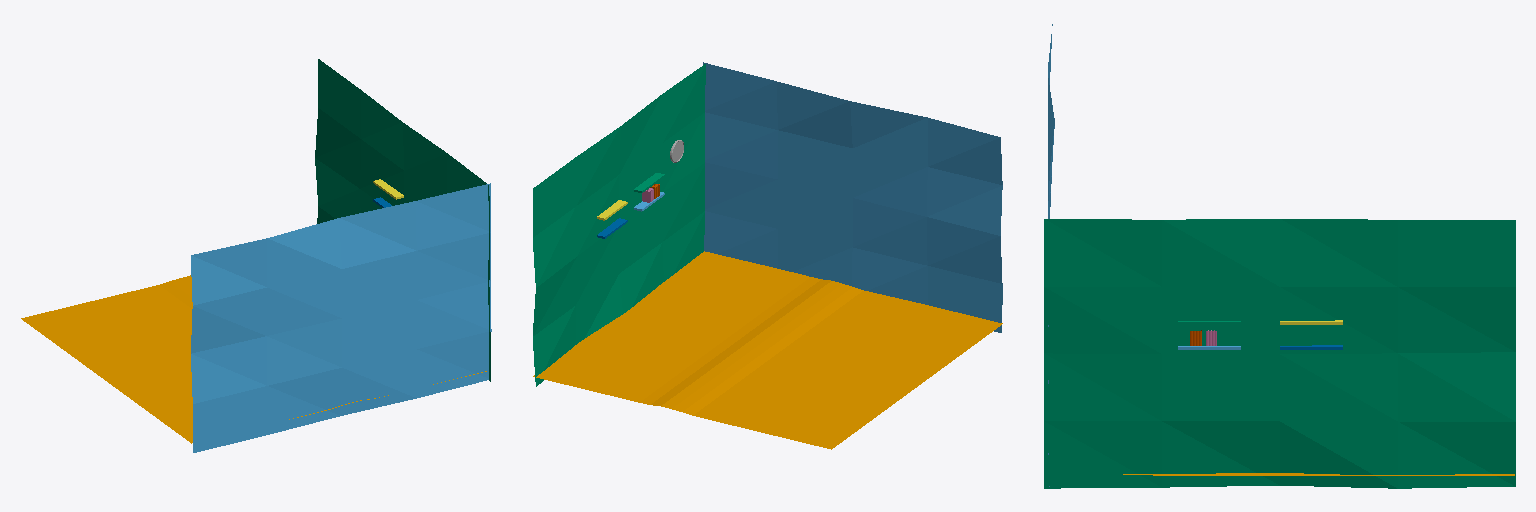
robot.urdf — room:
<?xml version="1.0"?>
<robot name="room">
  <material name="White">
    <color rgba="0.9 0.9 0.9 1"/>
  </material>
  <material name="Blue">
    <color rgba="0 0 1 1"/>
  </material>
  <material name="Red">
    <color rgba="1 0 0 1"/>
  </material>
  <material name="Green">
    <color rgba="0.1 0.8 0.1 1"/>
  </material>
  <material name="Gray">
    <color rgba="0.6 0.6 0.6 1"/>
  </material>
  <material name="Black">
    <color rgba="0.1 0.1 0.1 1"/>
  </material>
     
  <link name="room_base">

    <contact>
      <lateral_friction value="0.5"/>
      <rolling_friction value="0.0"/>
      <contact_cfm value="0.0"/>
      <contact_erp value="1.0"/>
    </contact>
    <inertial>
      <origin rpy="0 0 0" xyz="0 0 0"/>
      <mass value="0"/>
      <inertia ixx="0" ixy="0" ixz="0" iyy="0" iyz="0" izz="0"/>
    </inertial>


    <visual>
      <origin xyz="0 0 0" rpy="0 0 0"/>
      <geometry>
        <box size="0.001 0.001 0.001"/>
      </geometry>
      <material name="Red"/>
    </visual>
  </link>
  
    
    
  <joint name="j_box_shelf_1" type="fixed">
    <parent link="room_base"/>
    <child link="l_box_shelf_1"/>
    <origin rpy="0 0 0" xyz="0 0 0"/>
  </joint>
        
  <link name="l_box_shelf_1">
    <inertial>
      <origin xyz="0 0 0" rpy="0 0 0"/>
      <mass value="1.0" />
      <inertia  ixx="1.0" ixy="0.0"  ixz="0.0"  iyy="1.0"  iyz="0.0"  izz="1.0" />
    </inertial>
    <visual>
      <origin xyz="2.9 -0.9 1.35" rpy="0 0 0"/>
      <geometry>
        <box size="0.2 0.8 0.04"/>
      </geometry>
    </visual>
    <collision>
      <origin xyz="2.9 -0.9 1.35" rpy="0 0 0"/>
      <geometry>
        <box size="0.2 0.8 0.04"/>
      </geometry>
    </collision>
  </link>

  <joint name="j_box_shelf_2" type="fixed">
    <parent link="room_base"/>
    <child link="l_box_shelf_2"/>
    <origin rpy="0 0 0" xyz="0 0 0"/>
  </joint>
        
  <link name="l_box_shelf_2">
    <inertial>
      <origin xyz="0 0 0" rpy="0 0 0"/>
      <mass value="1.0" />
      <inertia  ixx="1.0" ixy="0.0"  ixz="0.0"  iyy="1.0"  iyz="0.0"  izz="1.0" />
    </inertial>
    <visual>
      <origin xyz="2.9 -0.9 1.7" rpy="0 0 0"/>
      <geometry>
        <box size="0.2 0.8 0.04"/>
      </geometry>
    </visual>
    <collision>
      <origin xyz="2.9 -0.9 1.7" rpy="0 0 0"/>
      <geometry>
        <box size="0.2 0.8 0.04"/>
      </geometry>
    </collision>
  </link>

  <joint name="j_box_shelf_3" type="fixed">
    <parent link="room_base"/>
    <child link="l_box_shelf_3"/>
    <origin rpy="0 0 0" xyz="0 0 0"/>
  </joint>
        
  <link name="l_box_shelf_3">
    <inertial>
      <origin xyz="0 0 0" rpy="0 0 0"/>
      <mass value="1.0" />
      <inertia  ixx="1.0" ixy="0.0"  ixz="0.0"  iyy="1.0"  iyz="0.0"  izz="1.0" />
    </inertial>
    <visual>
      <origin xyz="2.9 0.4 1.7" rpy="0 0 0"/>
      <geometry>
        <box size="0.2 0.8 0.04"/>
      </geometry>
    </visual>
    <collision>
      <origin xyz="2.9 0.4 1.7" rpy="0 0 0"/>
      <geometry>
        <box size="0.2 0.8 0.04"/>
      </geometry>
    </collision>
  </link>

  <joint name="j_box_shelf_4" type="fixed">
    <parent link="room_base"/>
    <child link="l_box_shelf_4"/>
    <origin rpy="0 0 0" xyz="0 0 0"/>
  </joint>
        
  <link name="l_box_shelf_4">
    <inertial>
      <origin xyz="0 0 0" rpy="0 0 0"/>
      <mass value="1.0" />
      <inertia  ixx="1.0" ixy="0.0"  ixz="0.0"  iyy="1.0"  iyz="0.0"  izz="1.0" />
    </inertial>
    <visual>
      <origin xyz="2.9 0.4 1.35" rpy="0 0 0"/>
      <geometry>
        <box size="0.2 0.8 0.04"/>
      </geometry>
    </visual>
    <collision>
      <origin xyz="2.9 0.4 1.35" rpy="0 0 0"/>
      <geometry>
        <box size="0.2 0.8 0.04"/>
      </geometry>
    </collision>
  </link>
  
  <joint name="j_books" type="fixed">
    <parent link="room_base"/>
    <child link="books_base"/>
    <origin rpy="0 0 0" xyz="0 0 0"/>
  </joint>
        
  <link name="books_base">
      <inertial>
      <origin rpy="0 0 0" xyz="0 0 0"/>
      <mass value="0"/>
      <inertia ixx="0" ixy="0" ixz="0" iyy="0" iyz="0" izz="0"/>
    </inertial>
    <visual>
      <origin xyz="2.9 -1.03 1.35" rpy="0 0 1.570796"/>
      <geometry>
        <mesh filename="../meshes/obj/books.obj" scale="0.012 0.012 0.012"/>
      </geometry>
    </visual>
    <collision>
      <origin xyz="2.9 -1.03 1.35" rpy="0 0 1.570796"/>
      <geometry>
        <mesh filename="../meshes/obj/books.obj" scale="0.012 0.012 0.012"/>
      </geometry>
    </collision>
  </link>
  
  <joint name="j_books_2" type="fixed">
    <parent link="room_base"/>
    <child link="books_2_base"/>
    <origin rpy="0 0 0" xyz="0 0 0"/>
  </joint>
        
  <link name="books_2_base">
      <inertial>
      <origin rpy="0 0 0" xyz="0 0 0"/>
      <mass value="0"/>
      <inertia ixx="0" ixy="0" ixz="0" iyy="0" iyz="0" izz="0"/>
    </inertial>
    <visual>
      <origin xyz="2.9 -0.83 1.35" rpy="0 0 1.570796"/>
      <geometry>
        <!-- <mesh filename="../meshes/vieux_livres_sized.dae"/> -->
        <mesh filename="../meshes/obj/books.obj" scale="0.012 0.012 0.012"/>
      </geometry>
    </visual>
    <collision>
      <origin xyz="2.9 -0.83 1.35" rpy="0 0 1.570796"/>
      <geometry>
        <mesh filename="../meshes/obj/books.obj" scale="0.012 0.012 0.012"/>
      </geometry>
    </collision>
  </link>



  <joint name="clock" type="fixed">
    <parent link="room_base"/>
    <child link="clock"/>
    <origin rpy="0 0 0" xyz="0 0 0"/>
  </joint>
        
  <link name="clock">
      <inertial>
      <origin rpy="0 0 0" xyz="0 0 0"/>
      <mass value="0"/>
      <inertia ixx="0" ixy="0" ixz="0" iyy="0" iyz="0" izz="0"/>
    </inertial>
    <visual>
      <origin xyz="2.9 -1.9 1.9" rpy="1.570796 0 3.14159"/>
      <geometry>
        <mesh filename="../meshes/obj/clock.obj" scale="0.45 0.45 0.5"/>
      </geometry>
    </visual>
    <collision>
      <origin xyz="2.9 -1.9 1.9" rpy="1.570796 0 3.14159"/>
      <geometry>
        <mesh filename="../meshes/obj/clock.obj" scale="0.45 0.45 0.5"/>
      </geometry>
    </collision>
  </link>
  

  
  <joint name="j_carpet" type="fixed">
    <parent link="room_base"/>
    <child link="l_carpet"/>
    <origin rpy="0 0 0" xyz="0 0 0"/>
  </joint>
        
  <link name="l_carpet">
      <inertial>
      <origin rpy="0 0 0" xyz="0 0 0"/>
      <mass value="0"/>
      <inertia ixx="0" ixy="0" ixz="0" iyy="0" iyz="0" izz="0"/>
    </inertial>
    <visual>
      <origin xyz="0 0 -0.5" rpy="1.57 0 0"/>
      <geometry>
        <mesh filename="../meshes/obj/carpet.obj"/>
      </geometry>
      <!-- <material name="Green"/> -->
    </visual>
    <collision>
      <origin xyz="0 0 -0.5" rpy="1.57 0 0"/>
      <geometry>
        <mesh filename="../meshes/obj/carpet.obj"/>
      </geometry>
    </collision>
  </link>

 <!-- on the right -->
  <joint name="j_carpet_wall_one" type="fixed">
    <parent link="room_base"/>
    <child link="l_carpet_wall_one"/>
    <origin rpy="0 0 0" xyz="0 0 0"/>
  </joint>
        
  <link name="l_carpet_wall_one">
    <inertial>
      <origin xyz="0 0 0" rpy="0 0 0"/>
      <mass value="1.0" />
      <inertia  ixx="1.0" ixy="0.0"  ixz="0.0"  iyy="1.0"  iyz="0.0"  izz="1.0" />
    </inertial>
    <visual>
      <origin xyz="0 -3 1.25" rpy="0 3.14 0"/>
      <geometry>
        <mesh filename="../meshes/obj/wall.obj" scale="1 1 1.5"/>
      </geometry>
    </visual>
    <collision>
      <origin xyz="0 -3 1.25" rpy="0 3.14 0"/>
      <geometry>
        <mesh filename="../meshes/obj/wall.obj" scale="1 1 1.5"/>
      </geometry>
    </collision>
  </link>

  <joint name="j_carpet_wall_two" type="fixed">
    <parent link="room_base"/>
    <child link="l_carpet_wall_two"/>
    <origin rpy="0 0 0" xyz="0 0 0"/>
  </joint>
        
  <link name="l_carpet_wall_two">
    <inertial>
      <origin xyz="0 0 0" rpy="0 0 0"/>
      <mass value="1.0" />
      <inertia  ixx="1.0" ixy="0.0"  ixz="0.0"  iyy="1.0"  iyz="0.0"  izz="1.0" />
    </inertial>
    <visual>
      <origin xyz="3 0 1.25" rpy="0 0 1.57"/>
      <geometry>
        <mesh filename="../meshes/obj/wall.obj" scale="1 1 1.5"/>
      </geometry>
      <!-- <material name="Blue"/> -->
    </visual>
    <collision>
      <origin xyz="3 0 1.25" rpy="0 0 1.57"/>
      <geometry>
        <mesh filename="../meshes/obj/wall.obj" scale="1 1 1.5"/>
      </geometry>
    </collision>
  </link>





</robot>

--- Render facts (derived) ---
The picture shows the robot from 3 angles, left to right: view 1: azimuth 30°, elevation 25°; view 2: azimuth 150°, elevation 25°; view 3: azimuth 270°, elevation 25°; orthographic projection.
Model room with 11 links and 10 joints (10 fixed), rooted at room_base, posed all joints at 0.
Visible links, largest first — view 1: l_carpet_wall_one, l_carpet, l_carpet_wall_two; view 2: l_carpet_wall_one, l_carpet, l_carpet_wall_two; view 3: l_carpet_wall_two, l_carpet, l_carpet_wall_one.
Boxes of the visible links, x1,y1,x2,y2 form: l_carpet_wall_one: (191,183,491,452); l_carpet: (21,275,486,443); l_carpet_wall_two: (315,59,490,381); l_carpet_wall_one: (703,62,1002,332); l_carpet: (533,251,1002,449); l_carpet_wall_two: (533,64,705,386); l_carpet_wall_two: (1044,219,1515,488); l_carpet: (1123,473,1514,475); l_carpet_wall_one: (1048,24,1054,486).
Bounding box of the posed robot: 6.04 × 6.02 × 3.8 m (x, y, z).
6 mesh visuals loaded from 4 distinct referenced files (4 OBJ).
